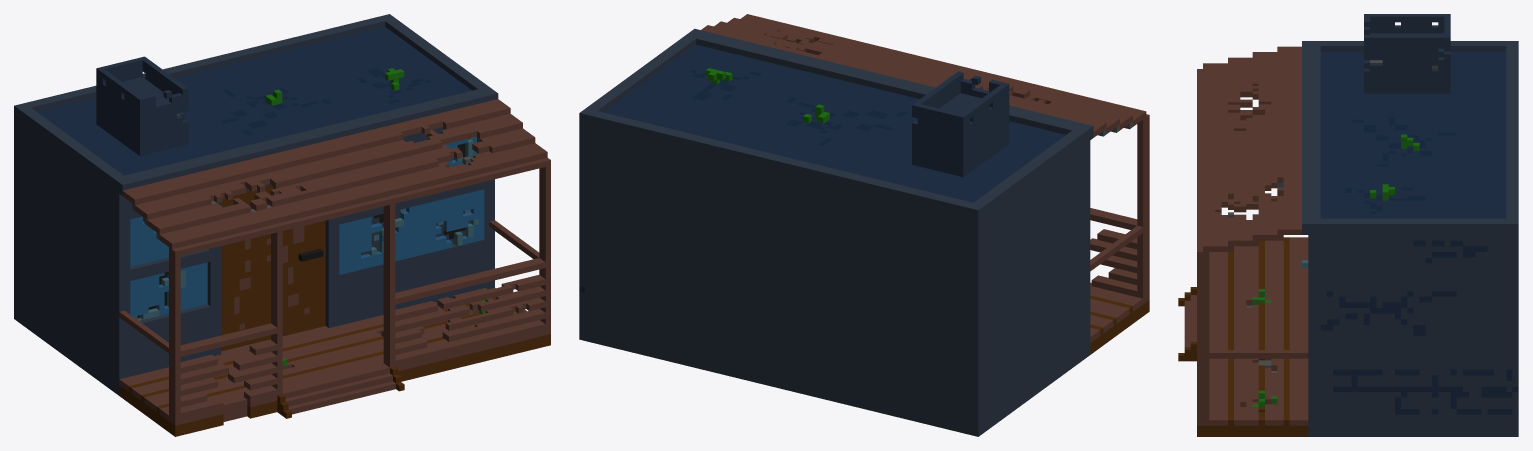
File: house.obj
3 views of the same model, side by side, from view 1: azimuth 30°, elevation 25°; view 2: azimuth 150°, elevation 25°; view 3: azimuth 270°, elevation 25° (orthographic). The views are drawn at different scales.
Size of the model in its own units: 7 by 4.7 by 5.5.
1 material, 1 textured.
